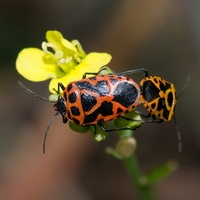insect: (18, 67, 177, 153)
